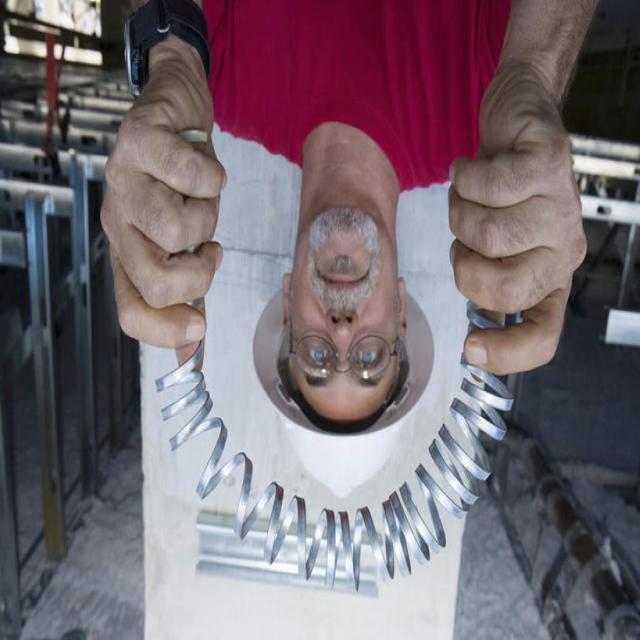safetyhelmet: (261, 204, 426, 488)
